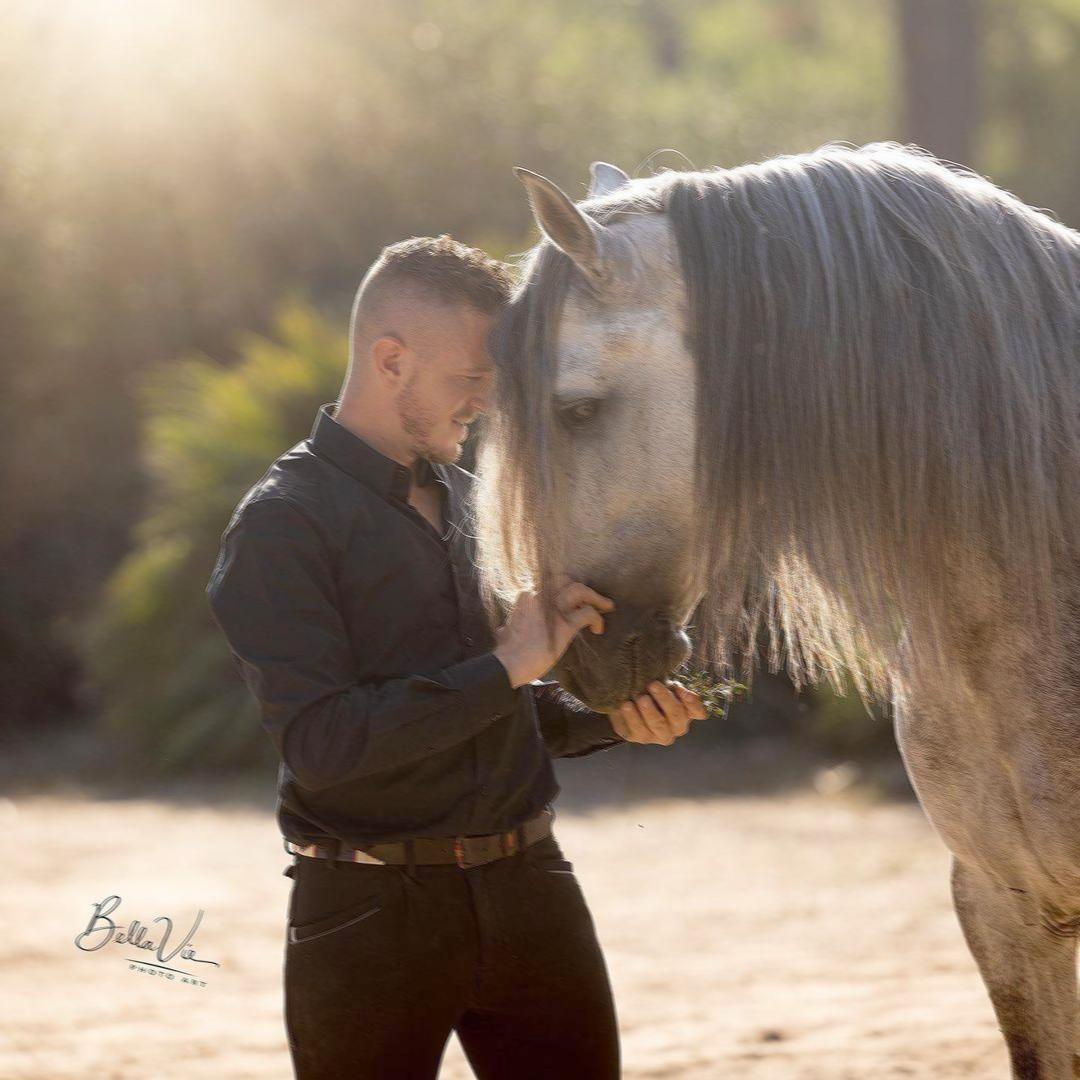horse: (466, 138, 1078, 1078)
